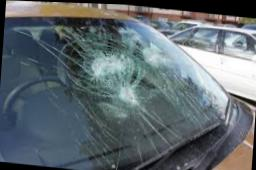Windshield: (1, 19, 238, 170)
